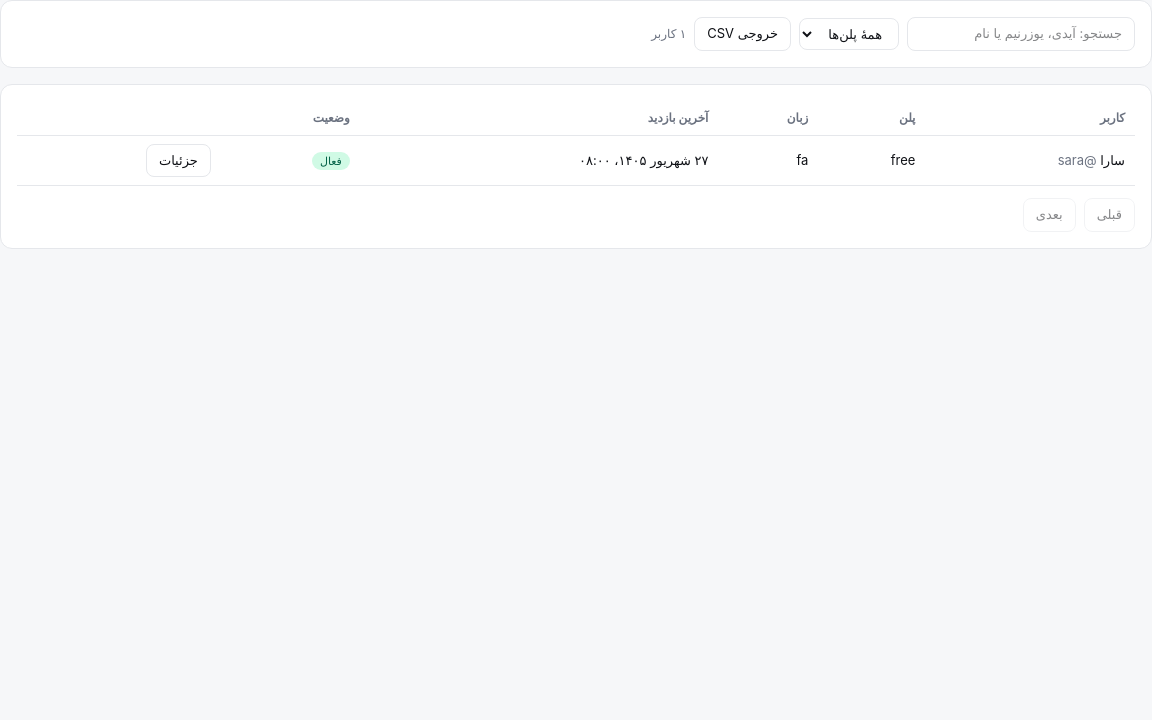
users › searches and opens a user
Type "sara" into the field with placeholder "جستجو: آیدی، یوزرنیم یا نام" at (1021, 34), box left=907, top=17, right=1135, bottom=50
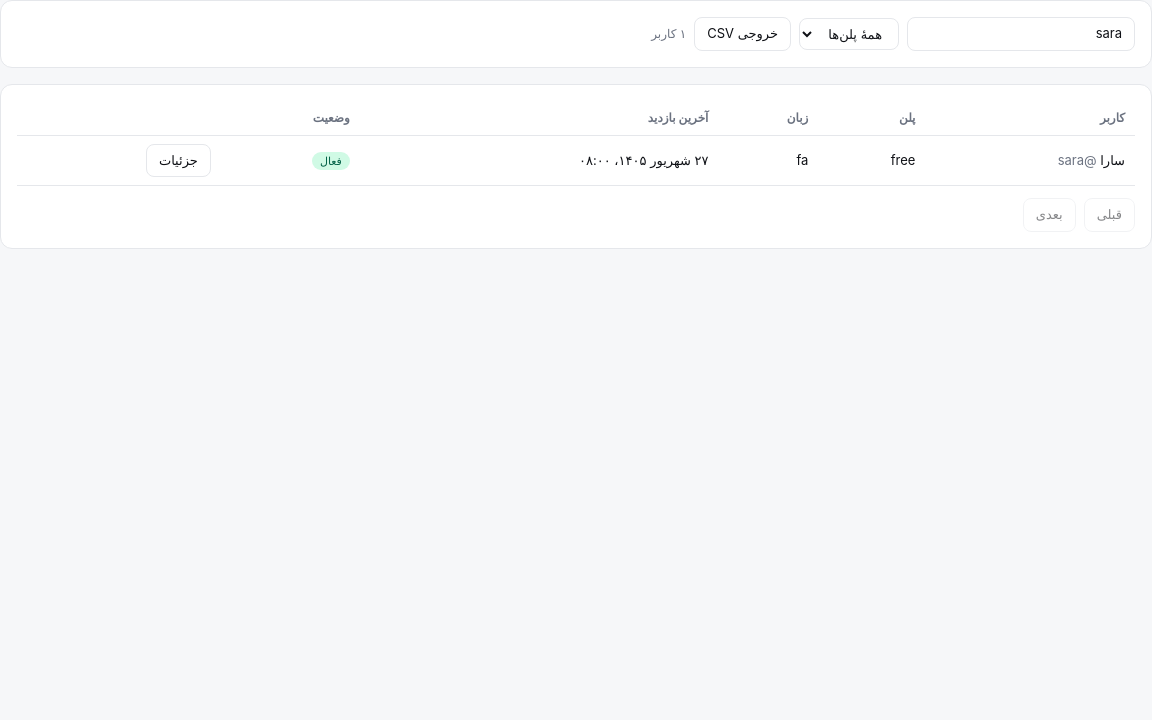
Click the button "جزئیات" at (178, 160), box left=146, top=144, right=211, bottom=177
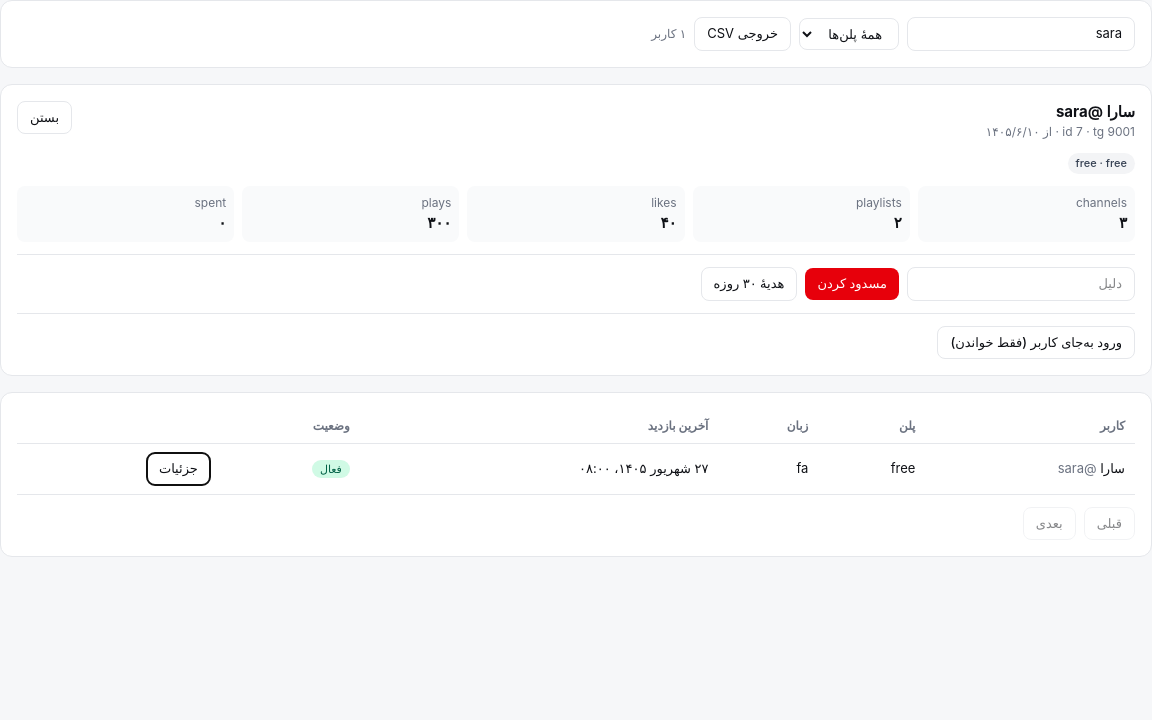
Now the text "id 7 · tg 9001 · از ۱۴۰۵/۶/۱۰" is shown, box left=986, top=123, right=1135, bottom=141
